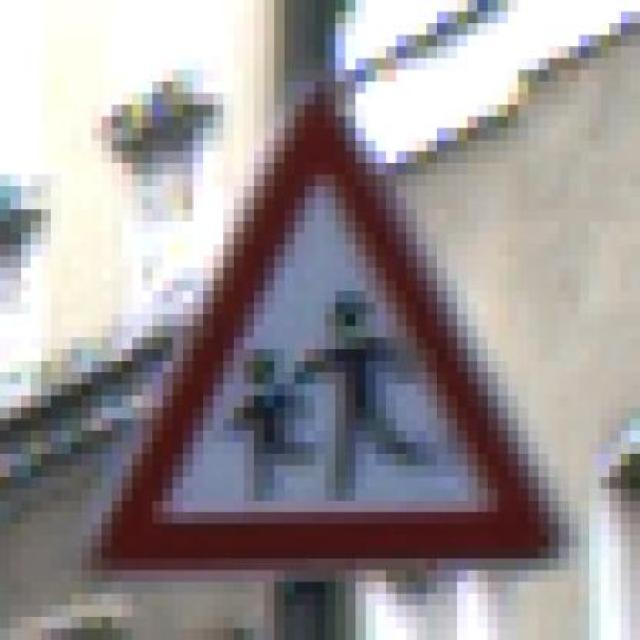Beware of children: (75, 69, 573, 594)
